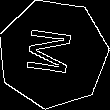M_E: (25, 28, 82, 80)
